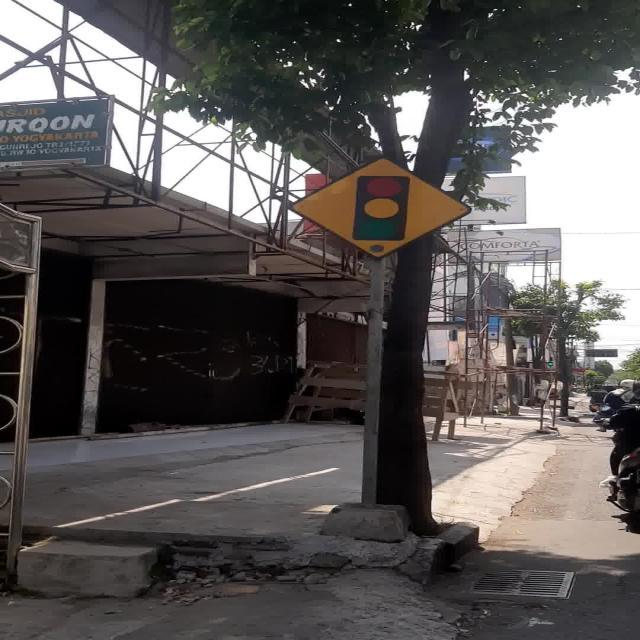Lampu Lalu Lintas: (288, 156, 472, 260)
